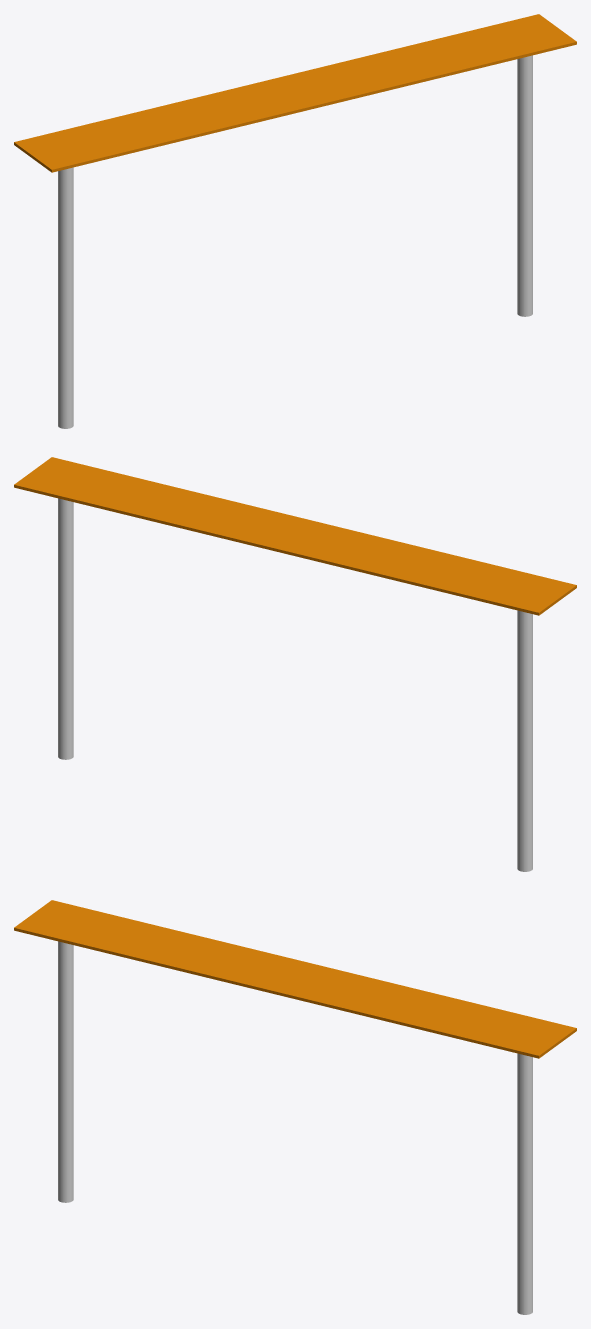
The model's file is wall.dae.
3 views of the same model, one above another, from view 1: azimuth 30°, elevation 25°; view 2: azimuth 150°, elevation 25°; view 3: azimuth 330°, elevation 25° (orthographic).
Parts seen in each view (by area): view 1: ShapeIndexedFaceSet; view 2: ShapeIndexedFaceSet; view 3: ShapeIndexedFaceSet.
Part boxes in pixels (box(x1,y1,x2,y2)): ShapeIndexedFaceSet: box(14, 14, 576, 428); ShapeIndexedFaceSet: box(14, 457, 576, 871); ShapeIndexedFaceSet: box(14, 900, 576, 1314).
Bounding box in the file's own units: 1.22 × 0.1524 × 0.6159.
